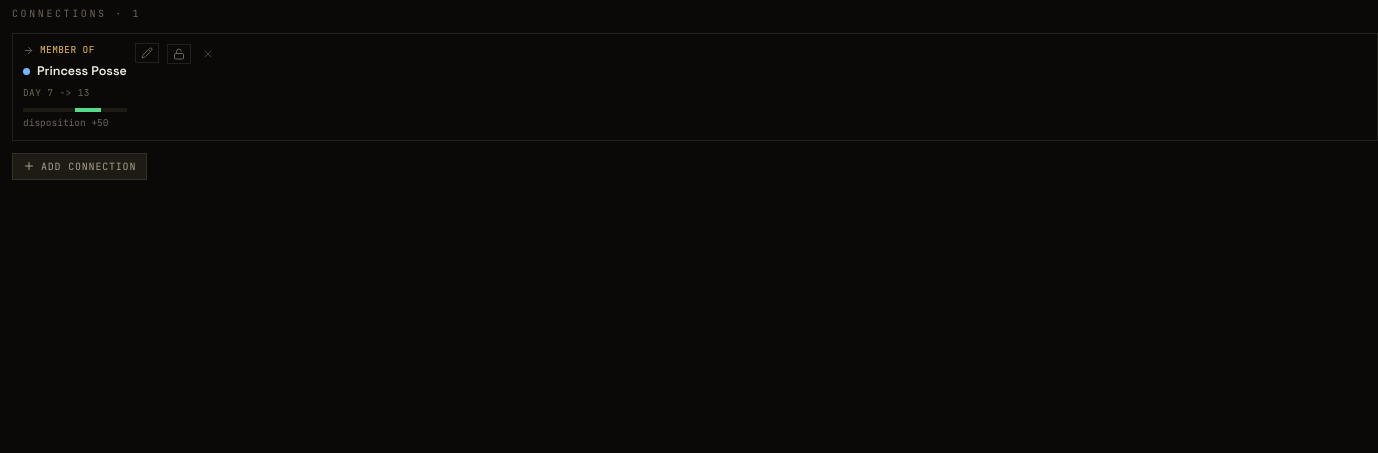
it: ConnectionsPanel › prefills membership day bounds when editing a membership edge
Click the button named "Edit connection": [147, 53] box [135, 43, 159, 63]
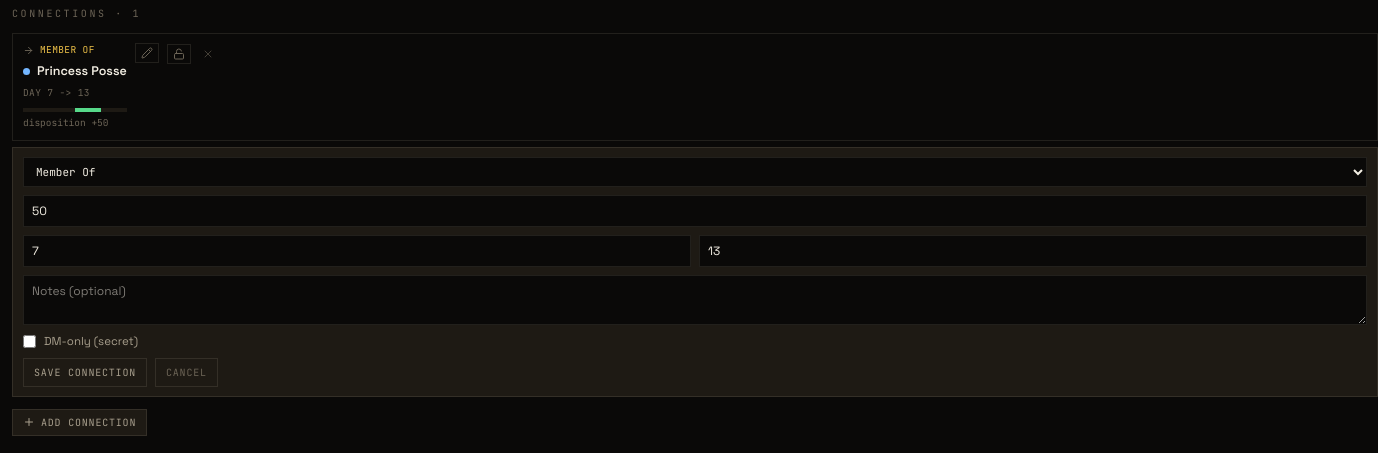
Expected: the number field named "Since day" holds "7", [23, 234, 691, 266]
Result: the number field named "Until day" holds "13" at [699, 234, 1367, 266]
